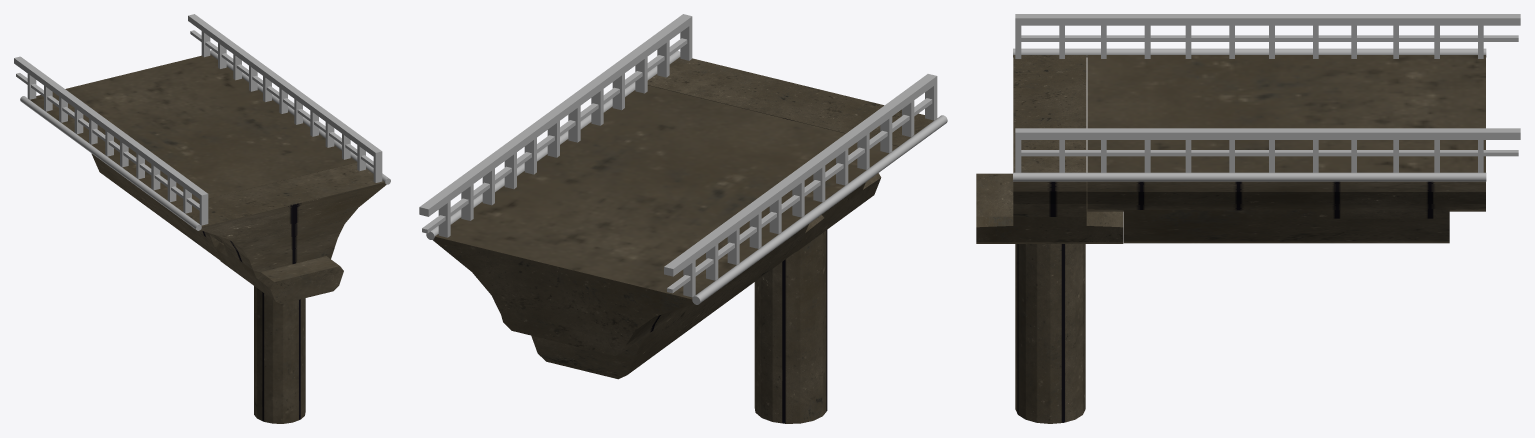
File: MrtTrackPillar.fbx
3 views of the same model, side by side, from view 1: azimuth 30°, elevation 25°; view 2: azimuth 150°, elevation 25°; view 3: azimuth 270°, elevation 25° (orthographic). The views are drawn at different scales.
Parts seen in each view (by area): view 1: pCube10; view 2: pCube10; view 3: pCube10.
Boxes of the visible parts, x1=… form: pCube10: x1=14, y1=14, x2=390, y2=423; pCube10: x1=419, y1=14, x2=947, y2=423; pCube10: x1=976, y1=14, x2=1520, y2=423.
Bounding box in the file's own units: 16 × 19.55 × 28.74.
Materials: 2 (2 with a texture image).
